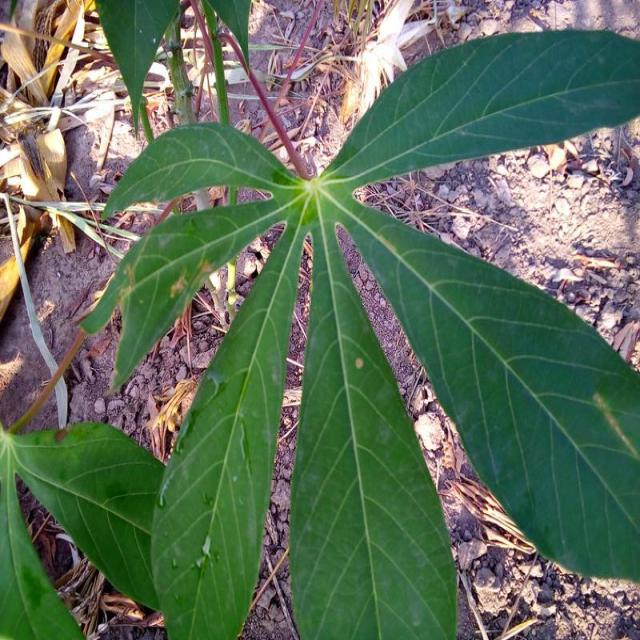cassava leaf: (77, 24, 639, 637), (322, 185, 640, 583), (289, 210, 459, 638), (150, 197, 310, 638), (10, 419, 168, 612)
